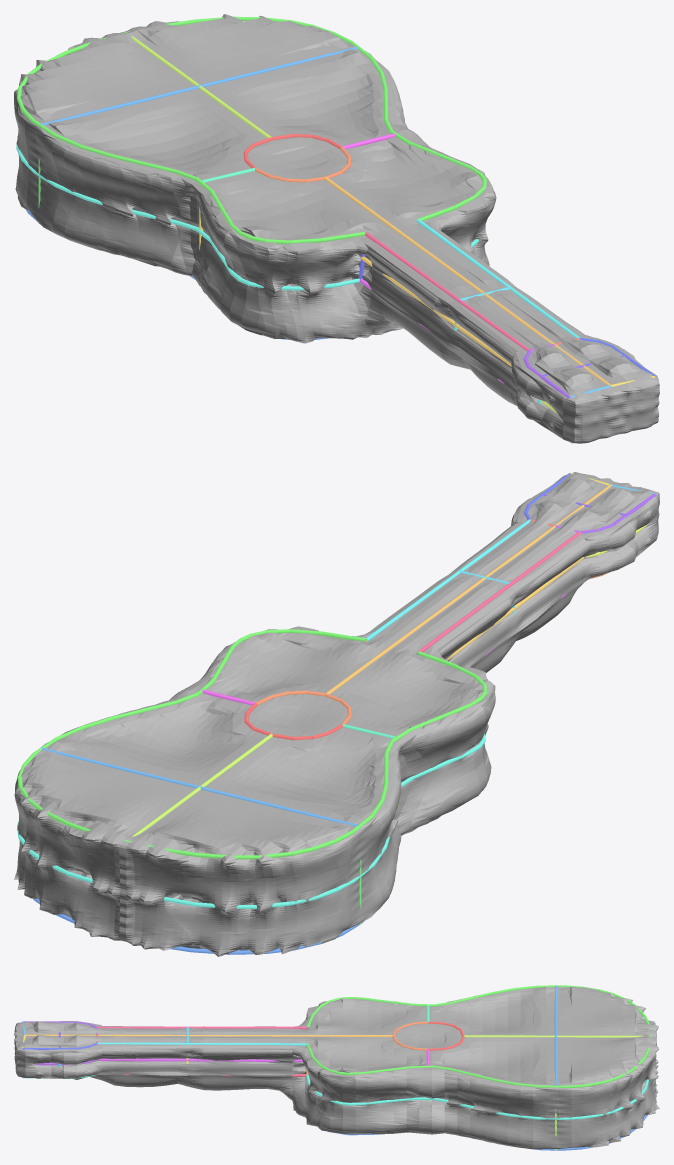
Rendered from t2f_guitar.gltf.
The picture shows the model from 3 angles, top to bottom: view 1: azimuth 30°, elevation 25°; view 2: azimuth 150°, elevation 25°; view 3: azimuth 270°, elevation 25°; orthographic projection. The views are drawn at different scales.
Bounding box in the file's own units: 0.3651 × 0.1226 × 0.9559.
